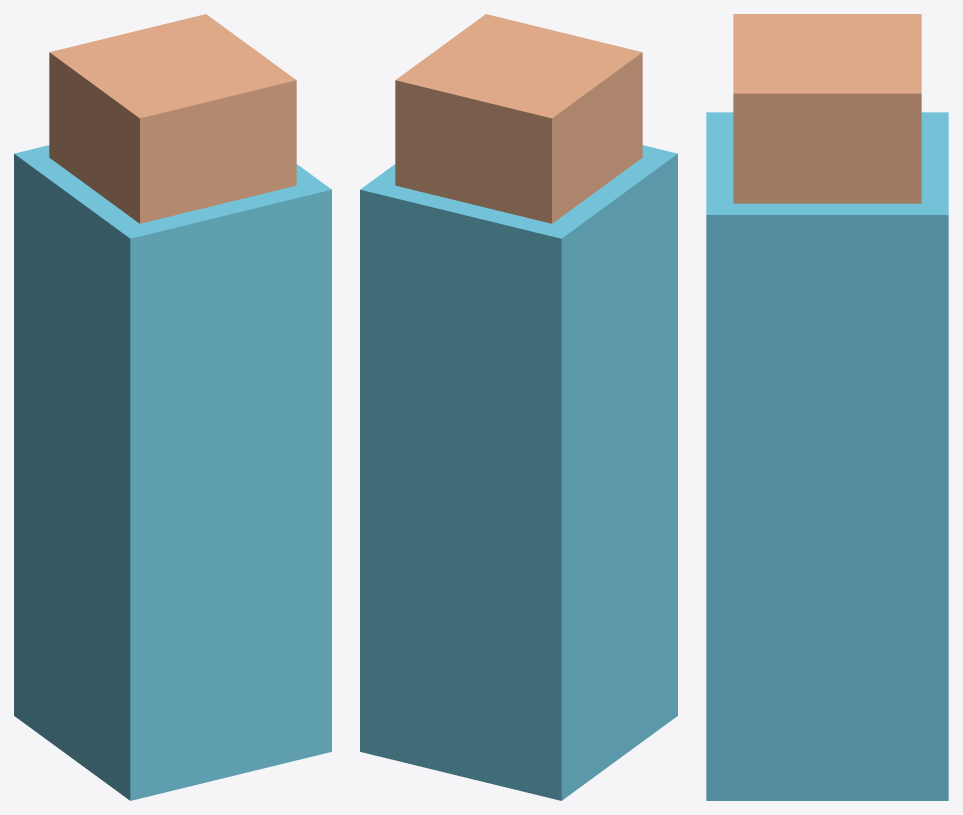
The model's file is flip-bottle.glb.
3 views of the same model, side by side, from view 1: azimuth 30°, elevation 25°; view 2: azimuth 150°, elevation 25°; view 3: azimuth 270°, elevation 25° (orthographic). The views are drawn at different scales.
Visible parts, largest first — view 1: BottleBody, BottleCap; view 2: BottleBody, BottleCap; view 3: BottleBody, BottleCap.
Boxes of the visible parts, x1=… form: BottleBody: x1=14, y1=145, x2=331, y2=800; BottleCap: x1=49, y1=14, x2=296, y2=223; BottleBody: x1=360, y1=145, x2=677, y2=800; BottleCap: x1=395, y1=14, x2=642, y2=223; BottleBody: x1=706, y1=112, x2=948, y2=800; BottleCap: x1=733, y1=14, x2=921, y2=203.
Bounding box in the file's own units: 0.09 × 0.285 × 0.09.
